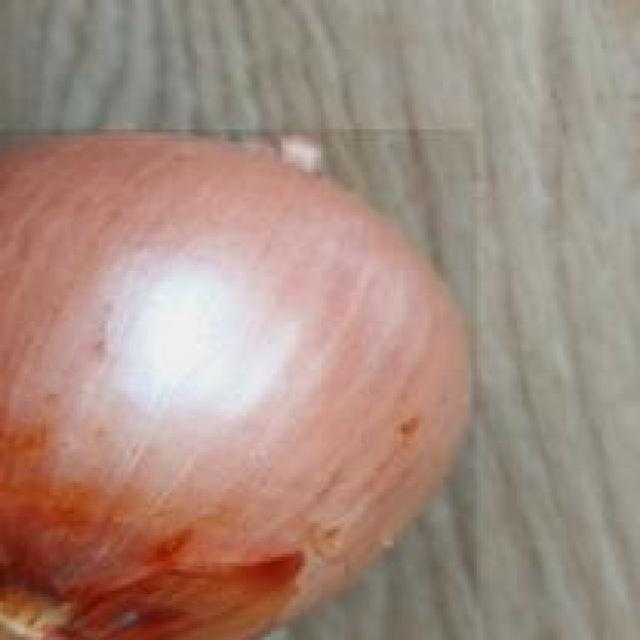onion: (0, 126, 480, 640)
